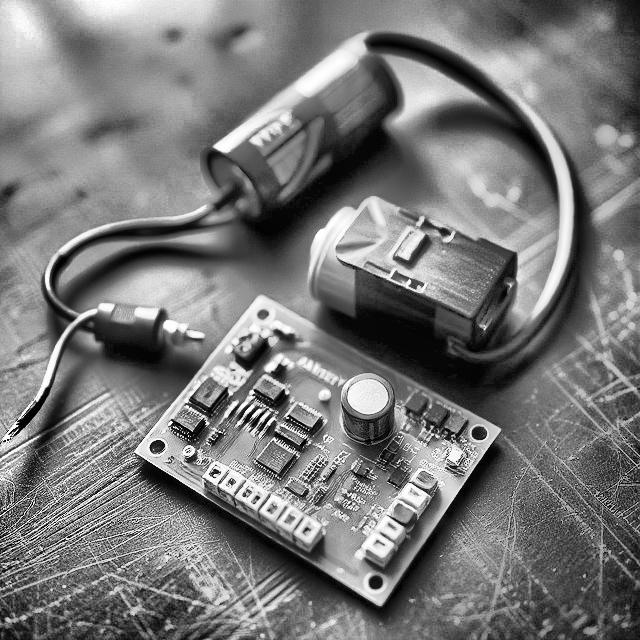Battery: (203, 33, 409, 214), (308, 198, 520, 344)
Cable: (369, 28, 584, 334), (4, 186, 250, 441)
PCB: (130, 293, 504, 613)
